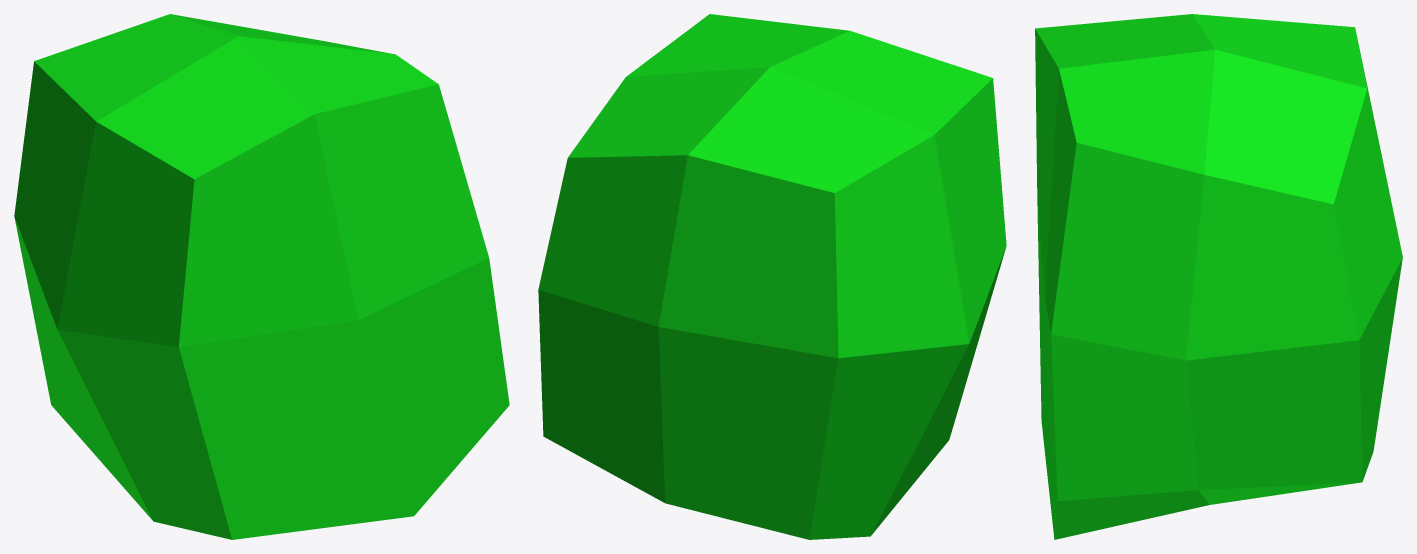
The model's file is Bush.fbx.
The picture shows the model from 3 angles, left to right: view 1: azimuth 30°, elevation 25°; view 2: azimuth 150°, elevation 25°; view 3: azimuth 270°, elevation 25°; orthographic projection.
Parts seen in each view (by area): view 1: Cube; view 2: Cube; view 3: Cube.
Boxes of the visible parts, x1,y1,x2,y2 form: Cube: (14, 14, 509, 539); Cube: (538, 14, 1006, 539); Cube: (1035, 14, 1402, 539).
Bounding box in the file's own units: 155 × 176 × 129.
